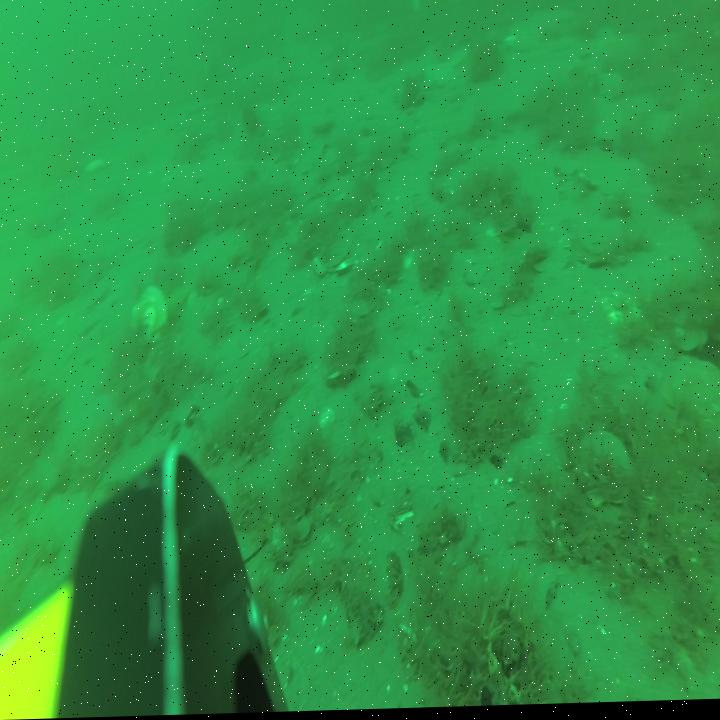scallop: (573, 433, 633, 510), (663, 355, 720, 423), (132, 290, 166, 343), (312, 245, 355, 279), (596, 71, 628, 102), (310, 110, 334, 135), (450, 46, 468, 67), (412, 0, 419, 14)
starfish: (424, 62, 458, 91)
